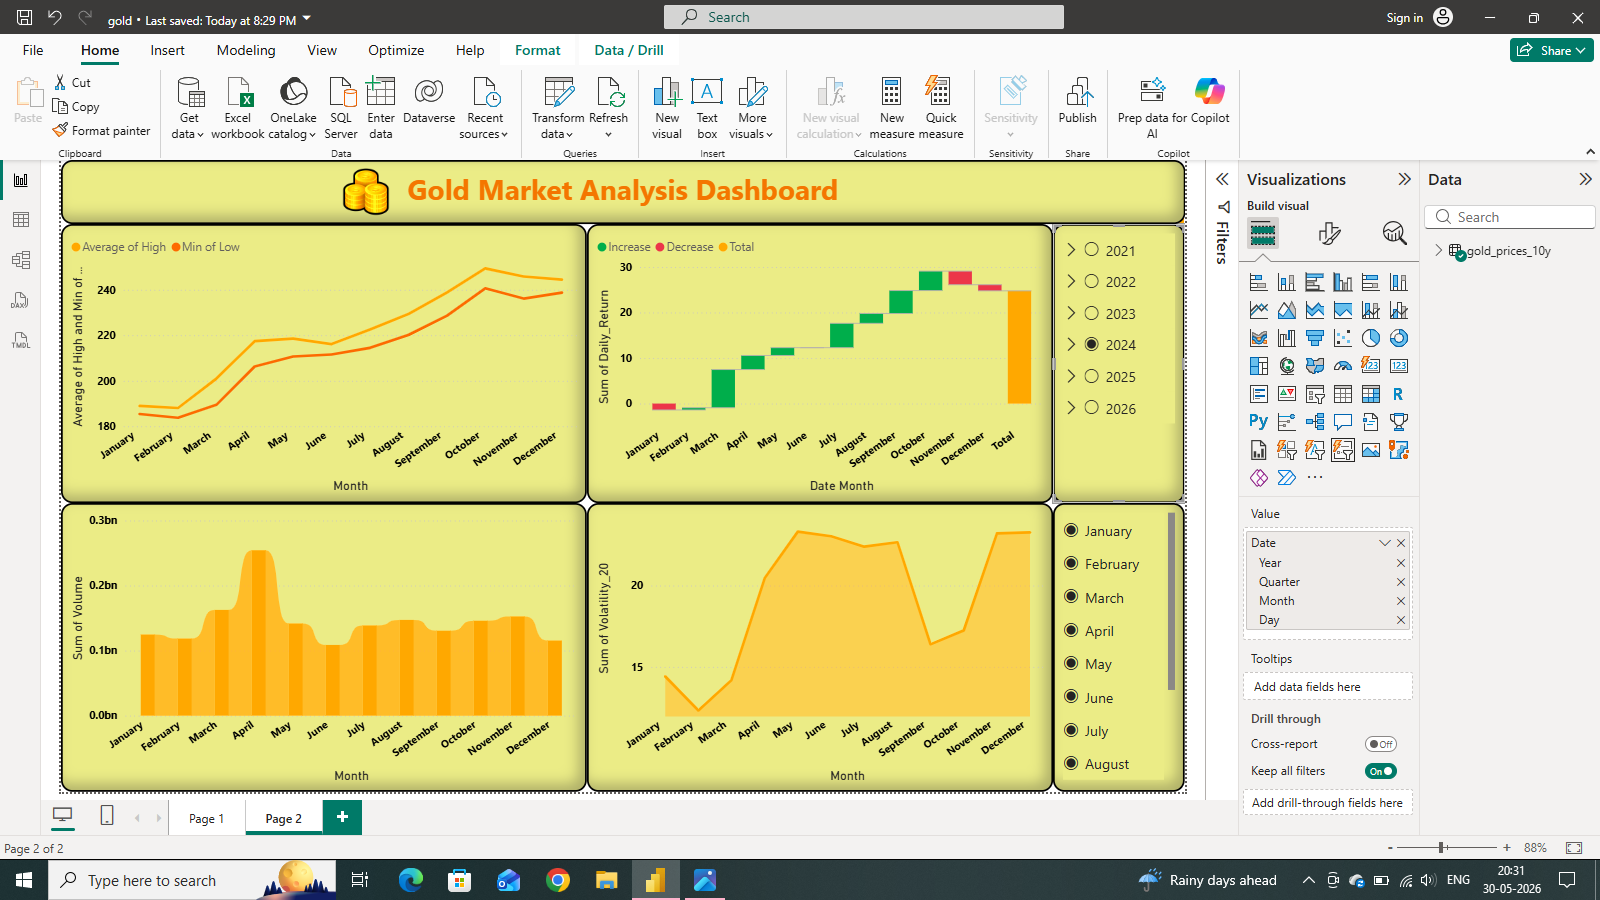

The page's visual inventory and layout, read from the dashboard file:
{"tool":"powerbi","page":{"name":"Page 2","canvas":[1280,720],"ordinal":1},"visuals":[{"type":"lineChart","fields":{"Category":["gold_prices_10y.Date.Variation.Date Hierarchy.Month"],"Y":["Avg(gold_prices_10y.High)","Min(gold_prices_10y.Low)"]},"box":[0,72.9,599.2,317.8],"z":0},{"type":"ribbonChart","fields":{"Y":["Sum(gold_prices_10y.Volume)"],"Category":["gold_prices_10y.Date.Variation.Date Hierarchy.Month"]},"box":[0,390.8,599.2,329.2],"z":1000},{"type":"waterfallChart","fields":{"Category":["gold_prices_10y.Date.Variation.Date Hierarchy.Month"],"Y":["Sum(gold_prices_10y.Daily_Return)"]},"box":[599.2,72.9,530.9,317.8],"z":2000},{"type":"areaChart","fields":{"Category":["gold_prices_10y.Date.Variation.Date Hierarchy.Month"],"Y":["Sum(gold_prices_10y.Volatility_20)"]},"box":[599.2,390.8,530.9,329.2],"z":3000},{"type":"listSlicer","fields":{"Values":["gold_prices_10y.Date.Variation.Date Hierarchy.Year","gold_prices_10y.Date.Variation.Date Hierarchy.Quarter","gold_prices_10y.Date.Variation.Date Hierarchy.Month","gold_prices_10y.Date.Variation.Date Hierarchy.Day"]},"box":[1130.1,72.9,150.4,317.8],"z":4000},{"type":"listSlicer","fields":{"Values":["gold_prices_10y.Date.Variation.Date Hierarchy.Month"]},"box":[1130.1,390.8,150.4,329.2],"z":5000},{"type":"textbox","box":[0,0,1280.5,72.9],"z":6000},{"type":"image","box":[285.9,9.1,123,53.5],"z":7000}]}

Visuals, with their boxes on the page's 1280x720 design canvas (x1, y1, x2, y2). These are canvas units, not pixel positions in the 1600x900 screenshot, which may show the page scaled, cropped or inside an application window:
lineChart - gold_prices_10y.Date.Variation.Date Hierarchy.Month x Avg(gold_prices_10y.High): bbox=[0, 73, 599, 391]
ribbonChart - Sum(gold_prices_10y.Volume) x gold_prices_10y.Date.Variation.Date Hierarchy.Month: bbox=[0, 391, 599, 720]
waterfallChart - gold_prices_10y.Date.Variation.Date Hierarchy.Month x Sum(gold_prices_10y.Daily_Return): bbox=[599, 73, 1130, 391]
areaChart - gold_prices_10y.Date.Variation.Date Hierarchy.Month x Sum(gold_prices_10y.Volatility_20): bbox=[599, 391, 1130, 720]
listSlicer - gold_prices_10y.Date.Variation.Date Hierarchy.Year x gold_prices_10y.Date.Variation.Date Hierarchy.Quarter: bbox=[1130, 73, 1280, 391]
listSlicer - gold_prices_10y.Date.Variation.Date Hierarchy.Month: bbox=[1130, 391, 1280, 720]
textbox: bbox=[0, 0, 1280, 73]
image: bbox=[286, 9, 409, 63]
